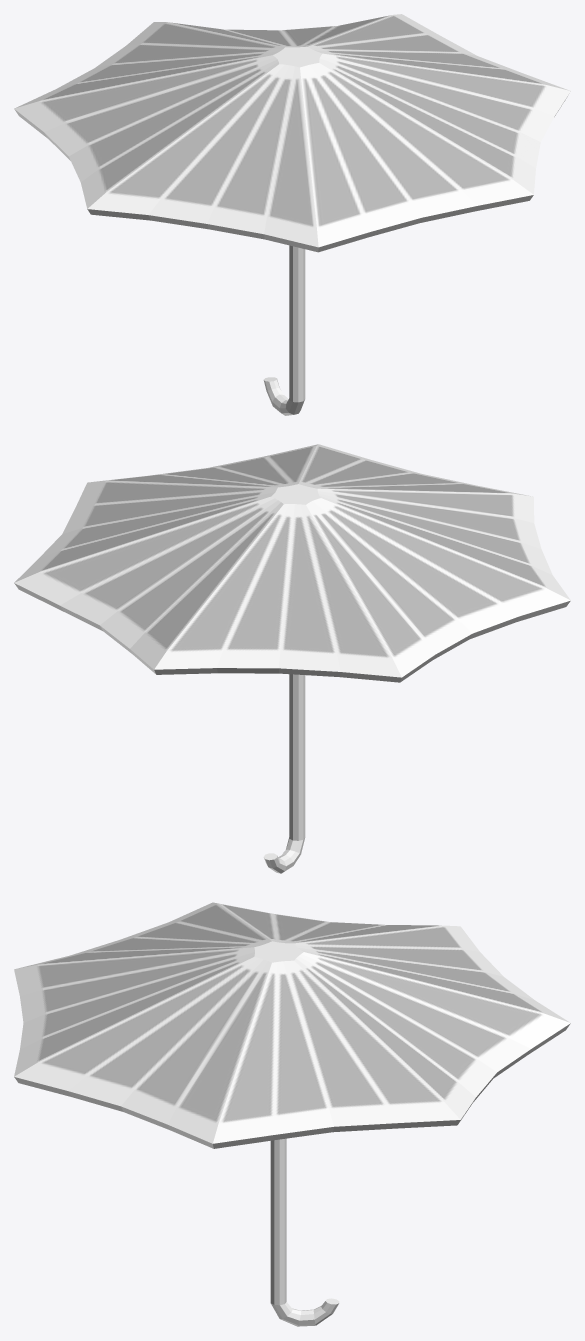
File: Umbrella.glb
The picture shows the model from 3 angles, top to bottom: view 1: azimuth 30°, elevation 25°; view 2: azimuth 150°, elevation 25°; view 3: azimuth 270°, elevation 25°; orthographic projection. The views are drawn at different scales.
Visible parts, largest first — view 1: canopy, stick; view 2: canopy, stick; view 3: canopy, stick.
Part boxes in pixels (x1=…): canopy: x1=14, y1=14, x2=570, y2=252; stick: x1=263, y1=245, x2=305, y2=415; canopy: x1=14, y1=444, x2=570, y2=682; stick: x1=263, y1=674, x2=305, y2=873; canopy: x1=14, y1=902, x2=570, y2=1148; stick: x1=270, y1=1138, x2=339, y2=1326.
Size of the model in its own units: 1.98 by 1.43 by 1.93.
Materials: 1 (1 with a texture image).
